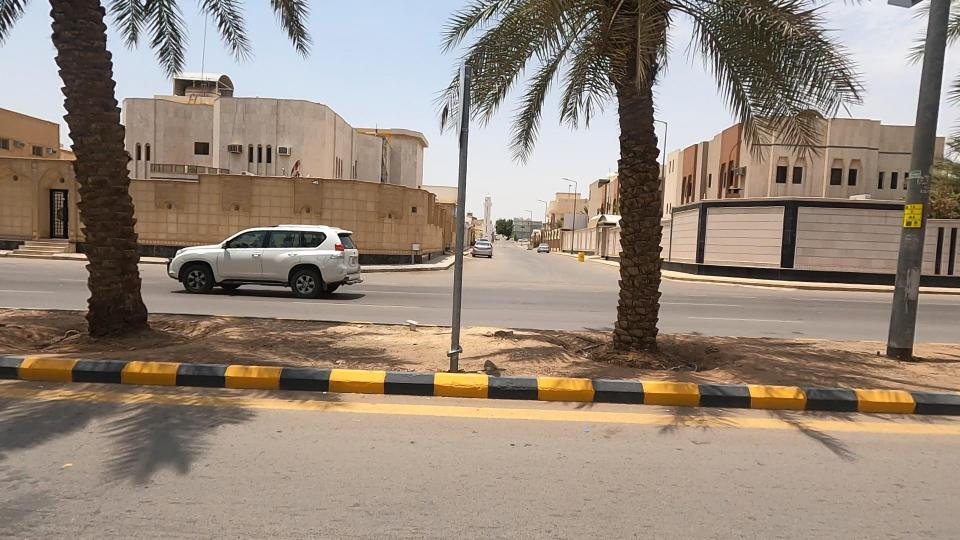GARBAGE: (392, 307, 434, 337)
